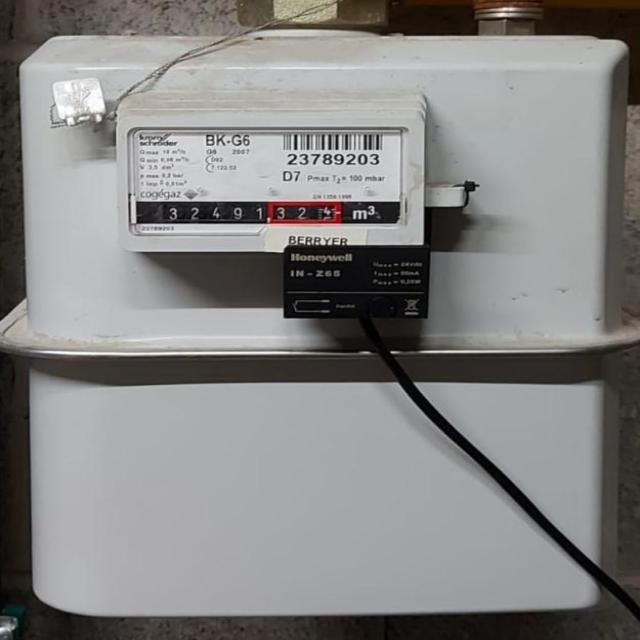gaz_meter: (132, 123, 414, 229)
indication: (139, 199, 339, 224)
